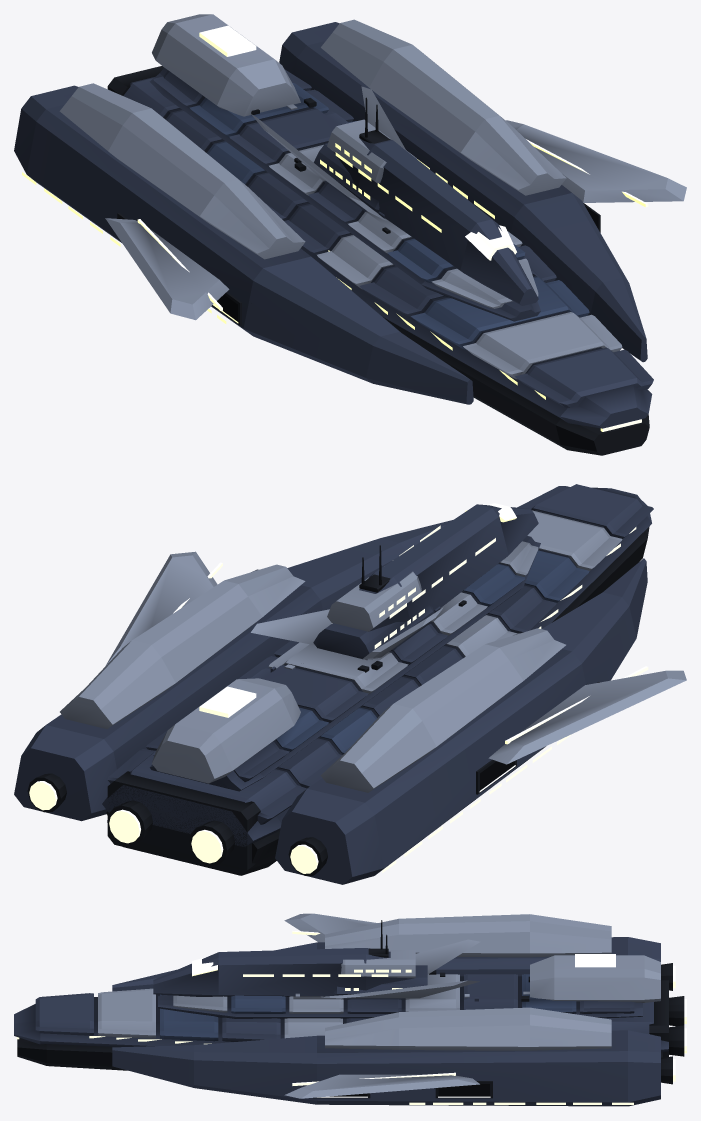
File: icarrier.glb
3 views of the same model, one above another, from view 1: azimuth 30°, elevation 25°; view 2: azimuth 150°, elevation 25°; view 3: azimuth 270°, elevation 25° (orthographic). The views are drawn at different scales.
Parts seen in each view (by area): view 1: hull_icarrier; view 2: hull_icarrier; view 3: hull_icarrier.
Part boxes in pixels (x1,y1,x2,y2): hull_icarrier: [14, 14, 686, 455]; hull_icarrier: [14, 484, 686, 884]; hull_icarrier: [14, 913, 686, 1106].
Size of the model in its own units: 107 by 36.34 by 164.
